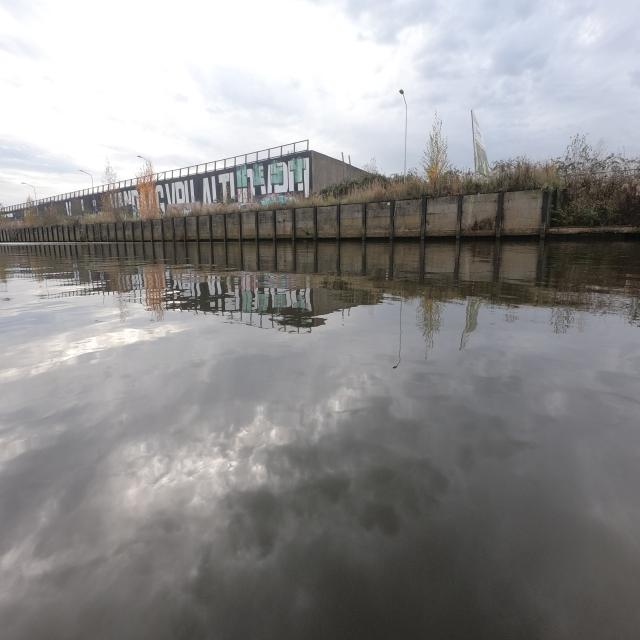dock: (546, 225, 640, 234)
wall: (0, 191, 555, 243)
water: (0, 236, 640, 640)
